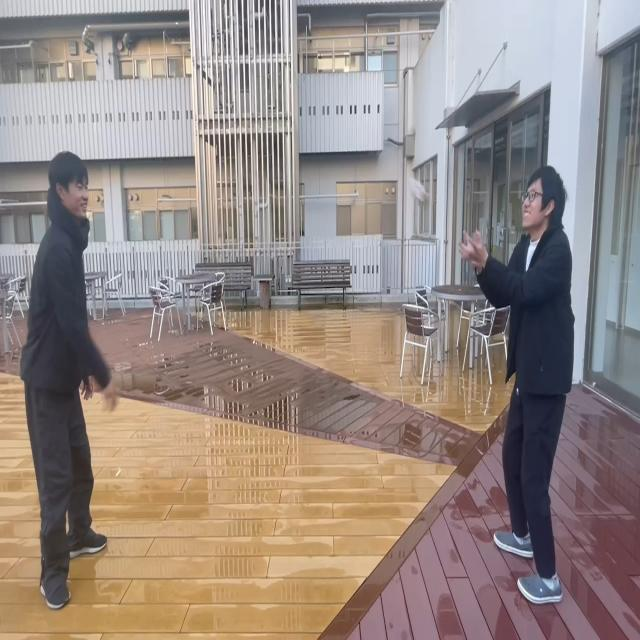bottle: (410, 177, 429, 206)
